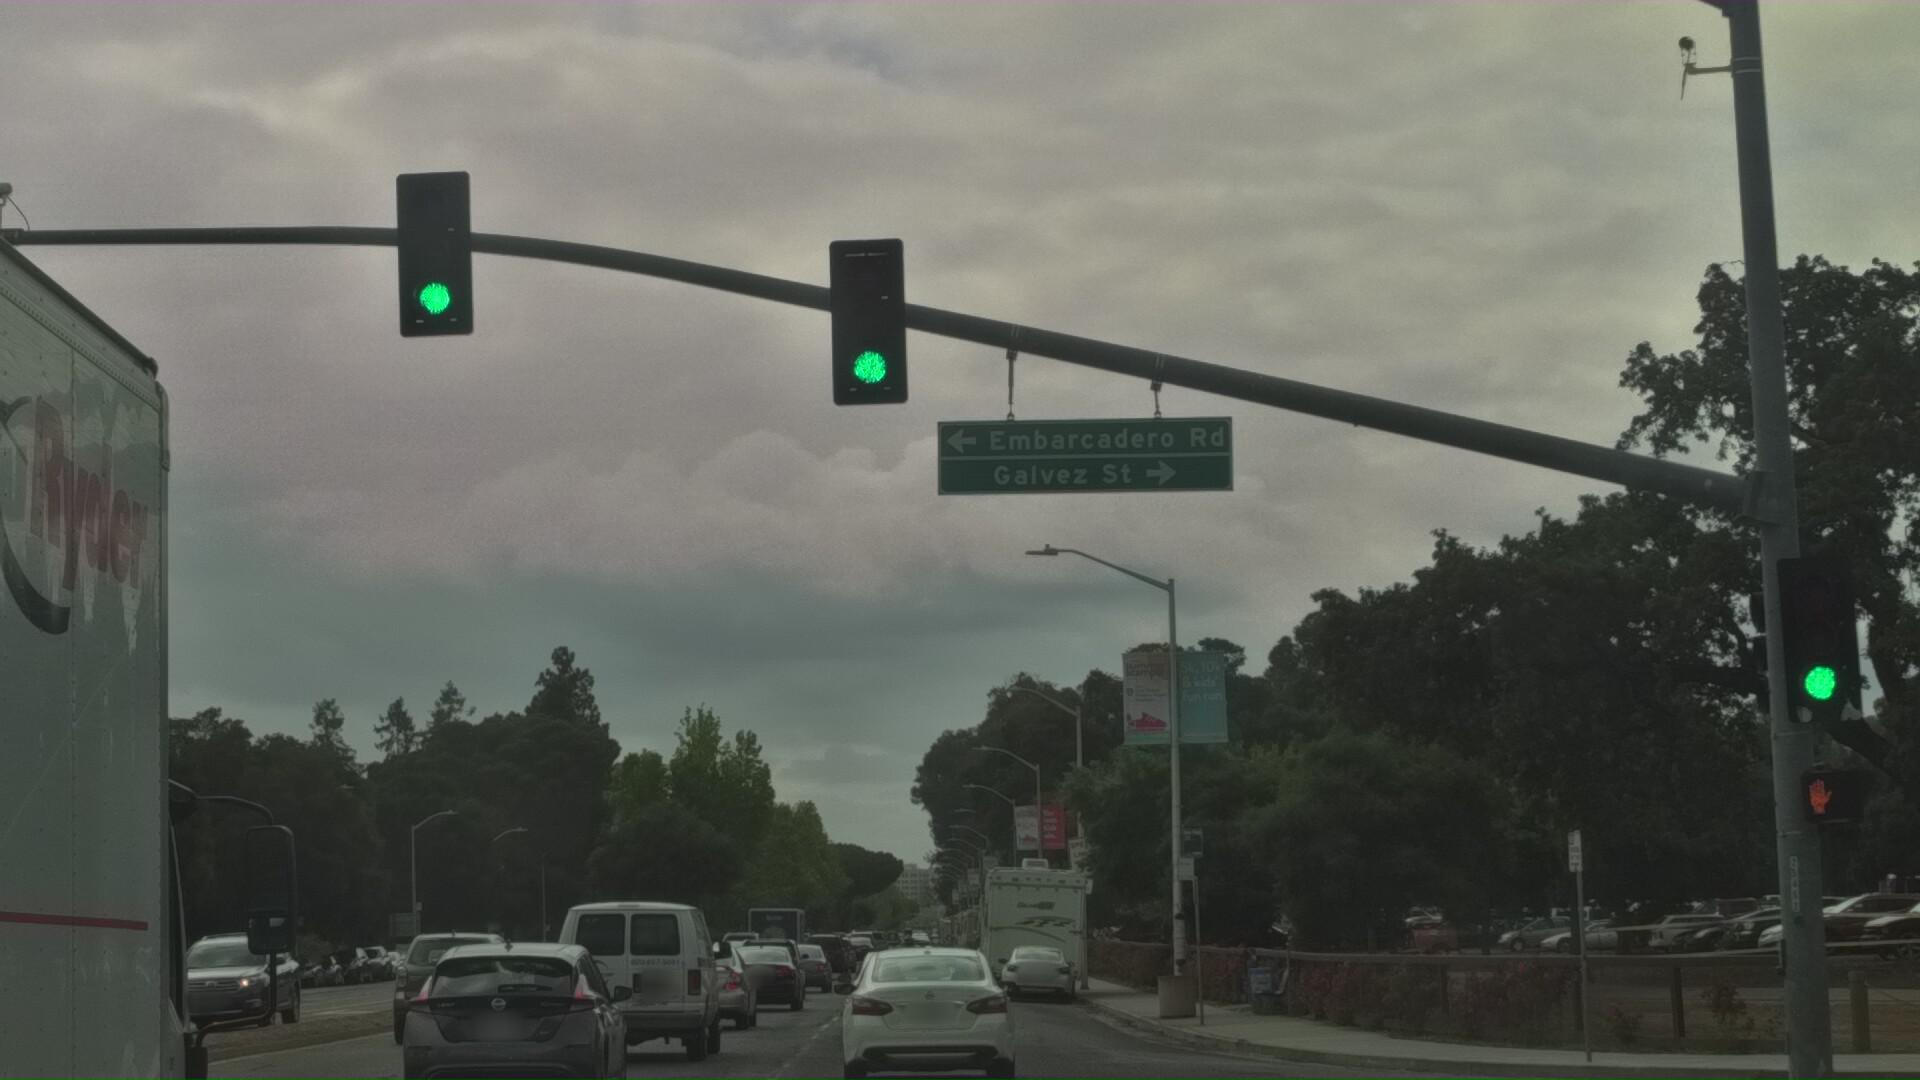car: (555, 982, 735, 1080), (385, 1023, 644, 1080), (832, 1015, 982, 1080), (839, 1029, 1015, 1080), (377, 1025, 527, 1080), (161, 1029, 309, 1080), (0, 1035, 108, 1080), (663, 1044, 779, 1080), (732, 1047, 822, 1080)
truck: (0, 0, 334, 1080)
